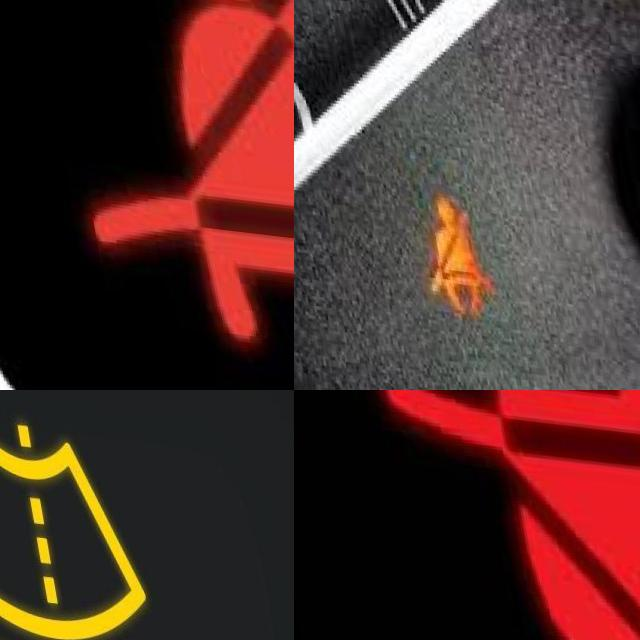Seat Belt: (32, 0, 294, 355), (367, 390, 640, 640), (402, 187, 482, 307)
Washer Fluid: (0, 405, 152, 640)
